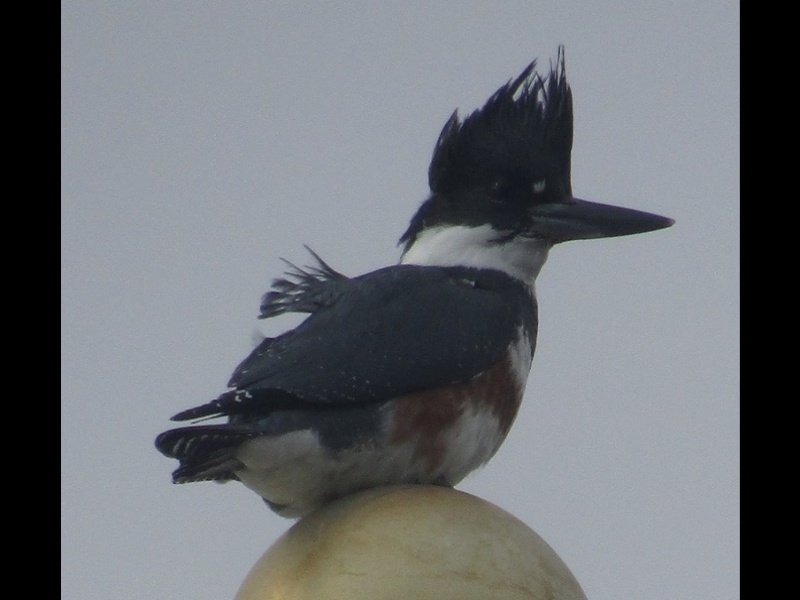kingfisher: (148, 44, 676, 534)
